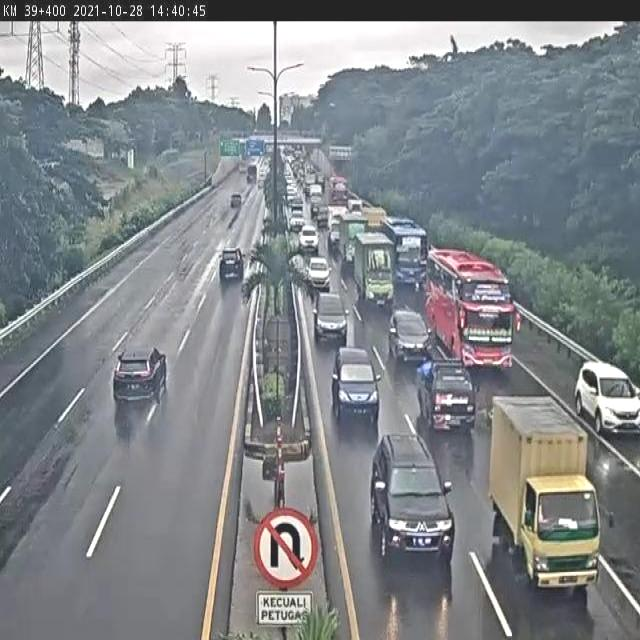Bus: (428, 242, 518, 367), (384, 217, 432, 305), (350, 230, 395, 310)
Car: (370, 433, 454, 562), (102, 336, 169, 415), (574, 361, 640, 437), (415, 358, 478, 433), (330, 341, 386, 412), (387, 308, 431, 367), (313, 292, 348, 345), (215, 242, 243, 276), (306, 256, 332, 290), (299, 226, 319, 251), (289, 212, 306, 234), (230, 194, 242, 207)
Truck: (488, 390, 605, 596)
